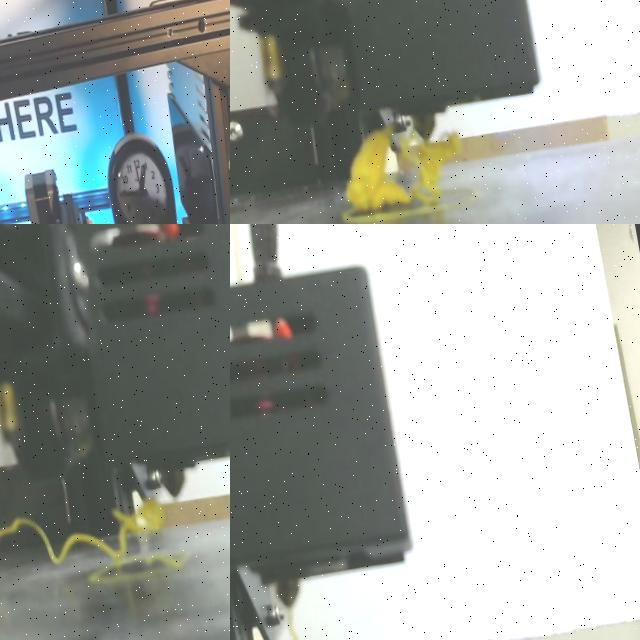spaghetti: (0, 499, 165, 571), (346, 128, 459, 212), (140, 555, 184, 567)
